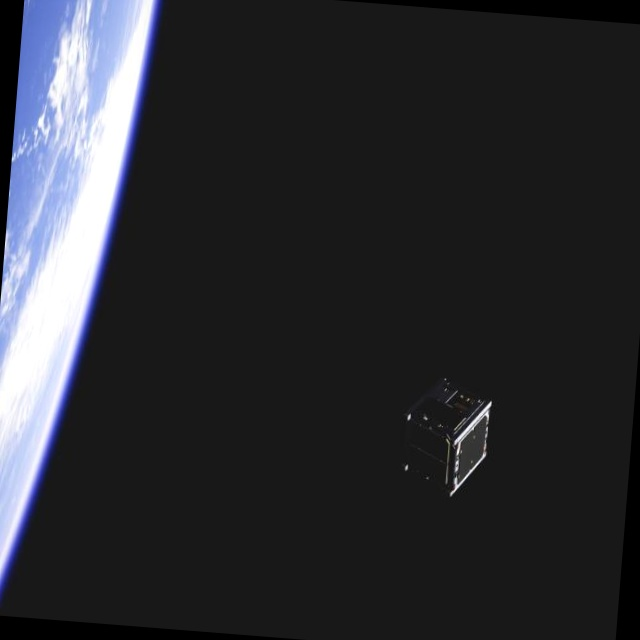medium_debris: (392, 364, 498, 507)
